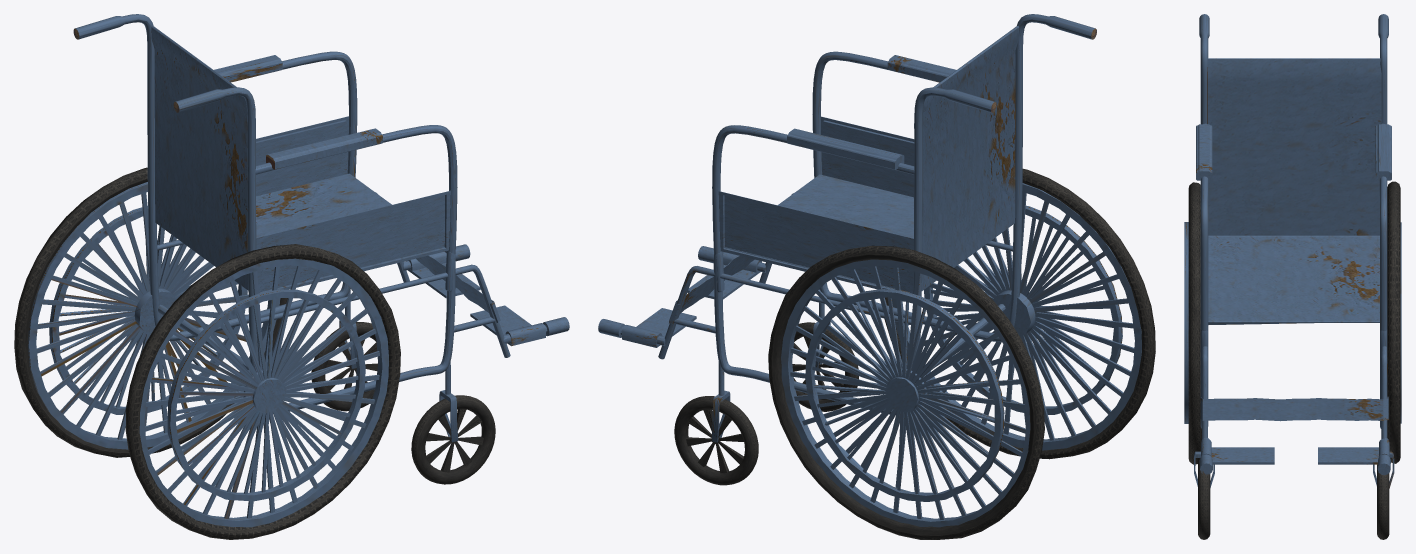
3 renders of one model, left to right at view 1: azimuth 30°, elevation 25°; view 2: azimuth 150°, elevation 25°; view 3: azimuth 270°, elevation 25°, orthographic. The views are drawn at different scales.
Visible parts, largest first — view 1: Chair, Wheel Left, Wheel Right, Front Wheel Left, Front Wheel Right _Tires_0; view 2: Chair, Wheel Right, Wheel Left, Front Wheel Right _Tires_0, Front Wheel Left; view 3: Chair, Wheel Left, Wheel Right, Front Wheel Left, Front Wheel Right _Tires_0.
Boxes of the visible parts, bbox=[...] form: Chair: bbox=[73, 14, 569, 442]; Wheel Left: bbox=[125, 244, 400, 539]; Wheel Right: bbox=[14, 167, 287, 457]; Front Wheel Left: bbox=[411, 395, 495, 484]; Front Wheel Right _Tires_0: bbox=[311, 322, 377, 411]; Chair: bbox=[598, 14, 1096, 442]; Wheel Right: bbox=[768, 245, 1044, 539]; Wheel Left: bbox=[884, 168, 1155, 459]; Front Wheel Right _Tires_0: bbox=[674, 396, 758, 485]; Front Wheel Left: bbox=[792, 322, 858, 411]; Chair: bbox=[1194, 14, 1394, 488]; Wheel Left: bbox=[1184, 182, 1201, 464]; Wheel Right: bbox=[1387, 181, 1401, 463]; Front Wheel Left: bbox=[1198, 458, 1210, 539]; Front Wheel Right _Tires_0: bbox=[1377, 464, 1389, 539].
Size of the model in its own units: 10.98 by 10.62 by 5.17.
Materials: 2 (2 with a texture image).
